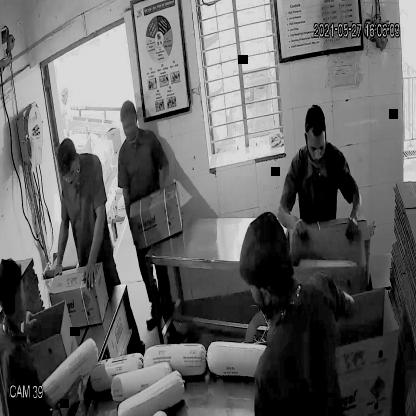no_goggles: (304, 131, 329, 159), (58, 164, 82, 187)
